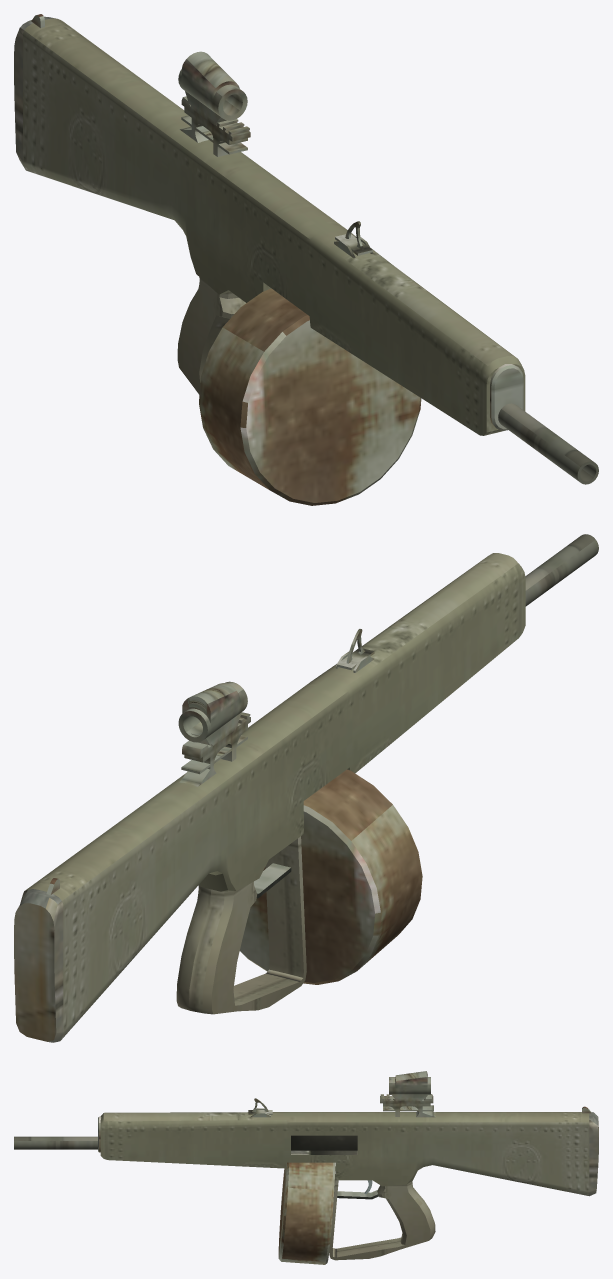
File: SM_AAAA12_00.fbx
3 renders of one model, top to bottom at view 1: azimuth 30°, elevation 25°; view 2: azimuth 150°, elevation 25°; view 3: azimuth 270°, elevation 25°, orthographic. The views are drawn at different scales.
Visible parts, largest first — view 1: SM_AAAA12_00; view 2: SM_AAAA12_00; view 3: SM_AAAA12_00.
Part boxes in pixels (left/top/right/bottom): SM_AAAA12_00: left=14, top=14, right=598, bottom=505; SM_AAAA12_00: left=14, top=534, right=598, bottom=1042; SM_AAAA12_00: left=14, top=1071, right=598, bottom=1264.
Size of the model in its own units: 28.03 by 52.39 by 148.
